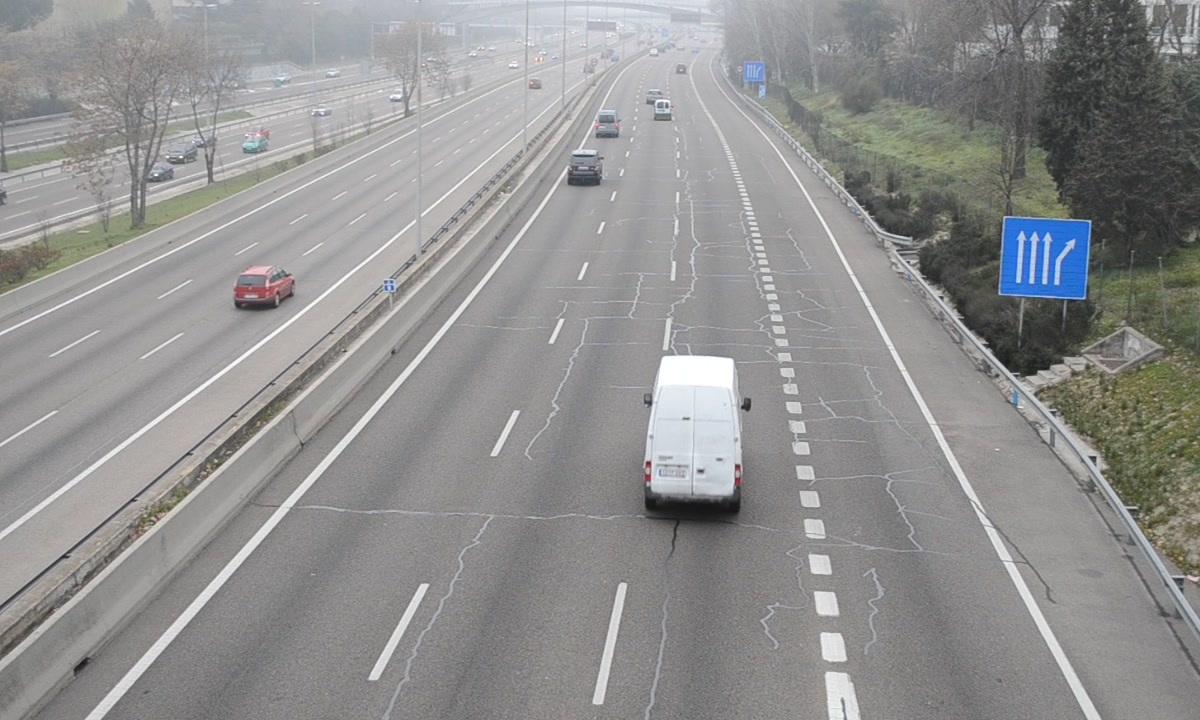car: (567, 149, 604, 187)
van: (643, 355, 746, 509), (594, 109, 618, 134)
